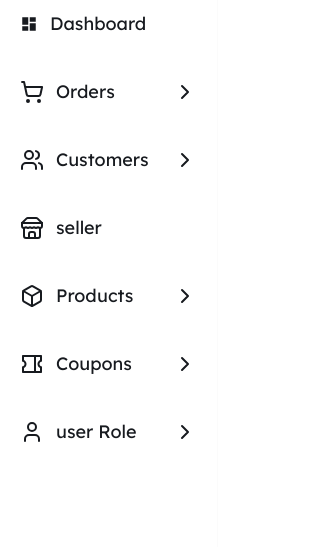
it: DashboardSideNav › expands and collapses the subitems
Click the link "Products" at [95, 296], box x1=56 y1=282 x2=134 y2=310
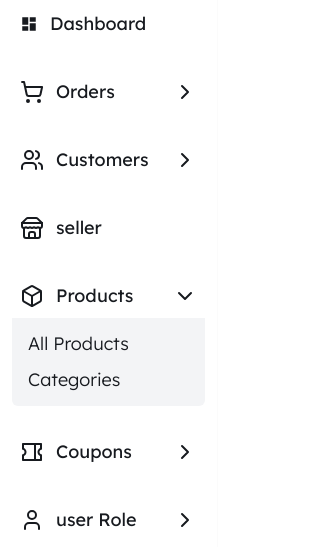
Check: the text "All Products" is shown, box x1=28 y1=330 x2=129 y2=358
Click the link "Products" at [95, 296], box x1=56 y1=282 x2=134 y2=310
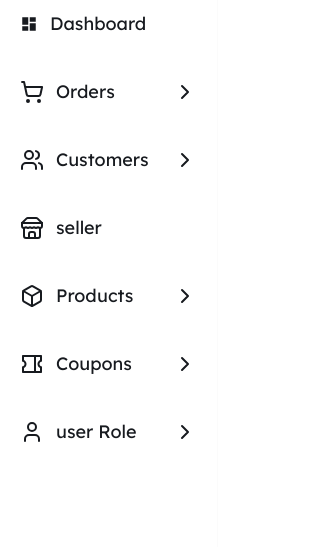
Check: the link "All Products" is gone
